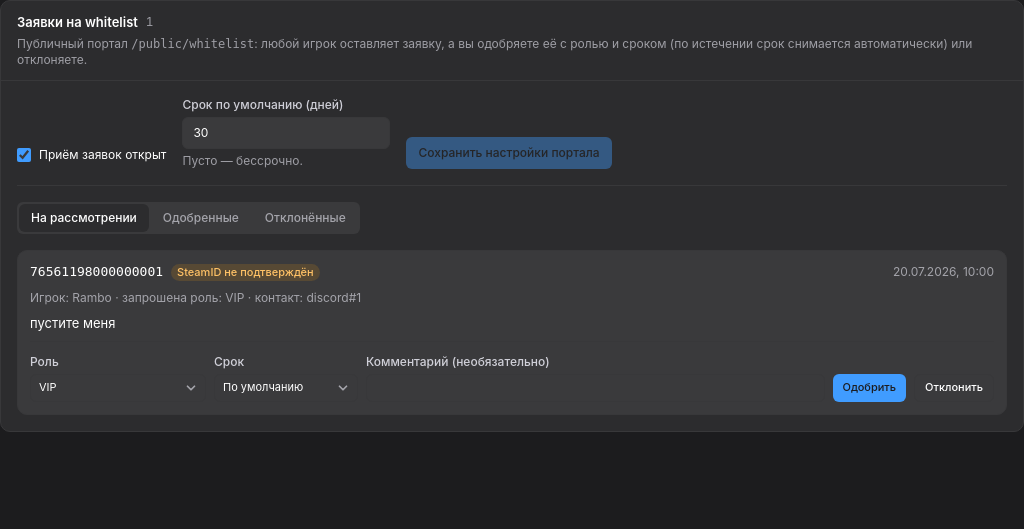
Scenario: ApplicationsSection › shows Russian text, not the raw API code, when a decision fails
The image size is (1024, 529).
Expected: the text "76561198000000001" is shown, [30,263,163,282]
Click the button "Одобрить" at x=869, y=388, box [832,374,906,402]
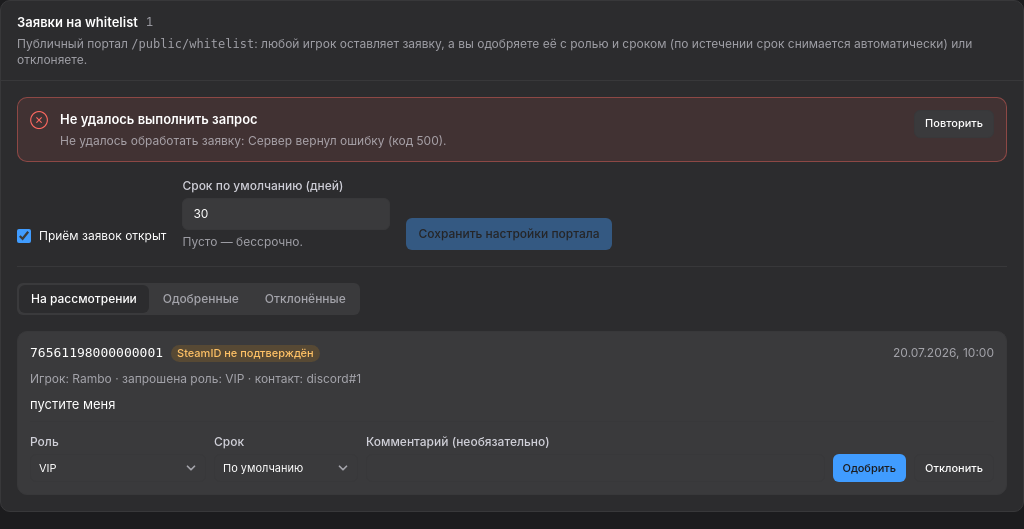
Expected: the text "Сервер вернул ошибку (код 500)" is shown, [60,133,447,148]
